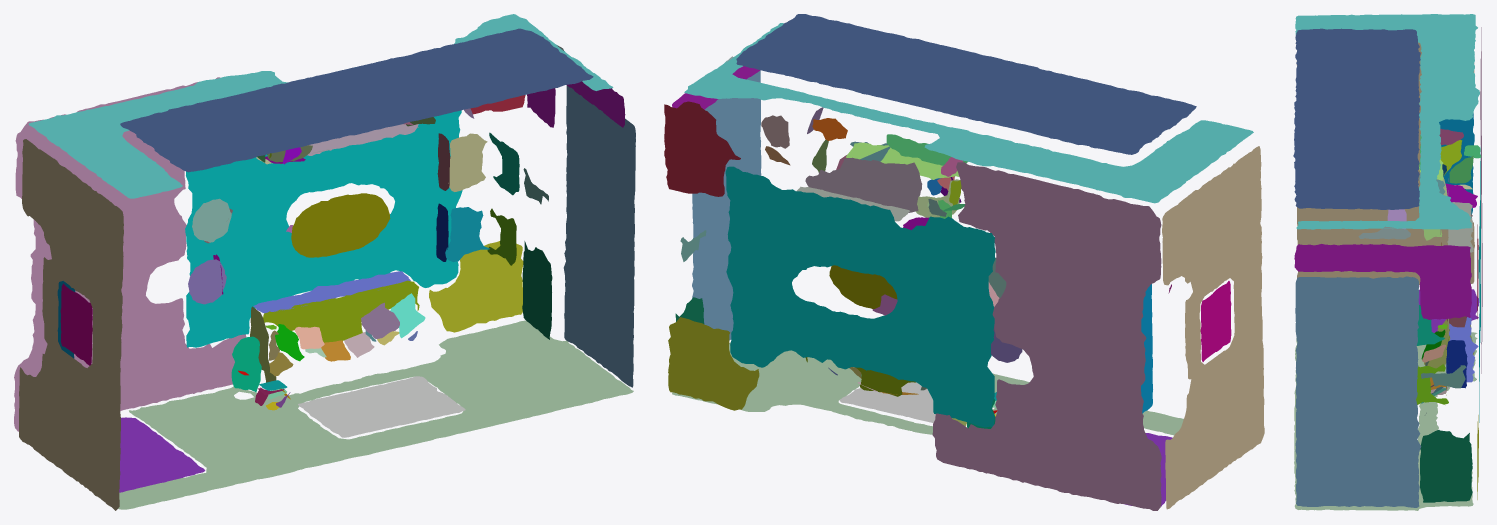
File: room0_pigs.glb
3 renders of one model, left to right at view 1: azimuth 30°, elevation 25°; view 2: azimuth 150°, elevation 25°; view 3: azimuth 270°, elevation 25°, orthographic. The views are drawn at different scales.
Visible parts, largest first — view 1: world; view 2: world; view 3: world.
Boxes of the visible parts, <box> form: world: <box>14,14,635,510</box>; world: <box>664,14,1264,510</box>; world: <box>1293,14,1482,510</box>.
Size of the model in its own units: 7.71 by 4.67 by 2.78.
